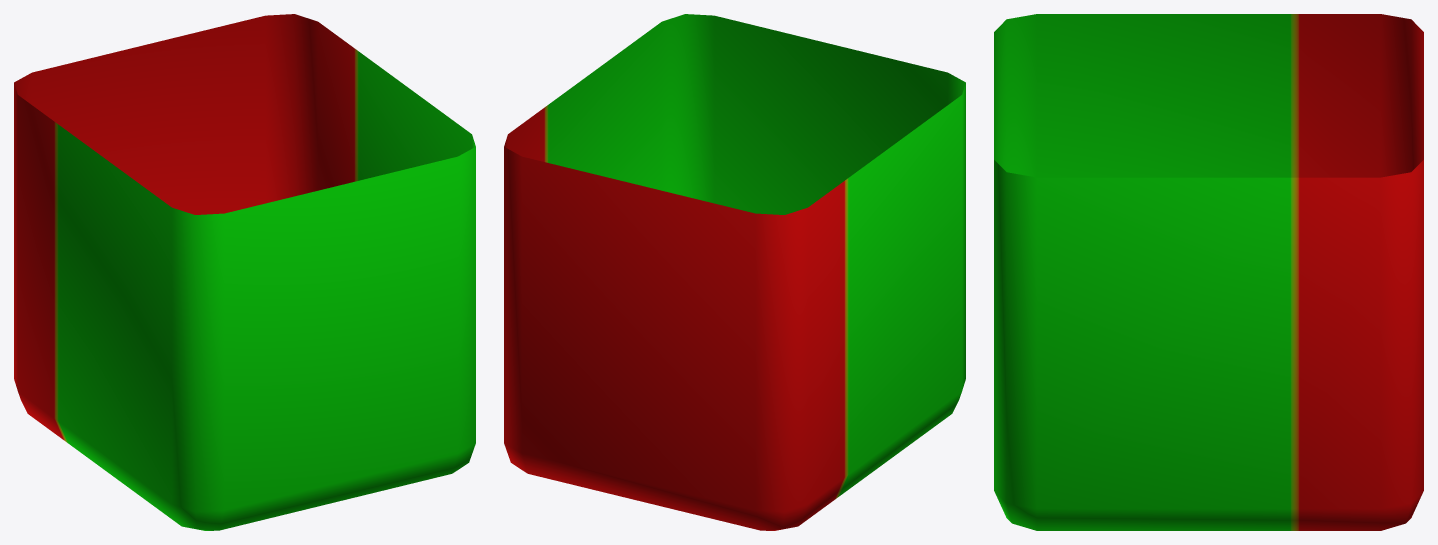
Rendered from Grass-I__I.fbx.
3 renders of one model, left to right at view 1: azimuth 30°, elevation 25°; view 2: azimuth 150°, elevation 25°; view 3: azimuth 270°, elevation 25°, orthographic. The views are drawn at different scales.
Visible parts, largest first — view 1: Grass-I__I; view 2: Grass-I__I; view 3: Grass-I__I.
Part boxes in pixels (left/top/right/bottom): Grass-I__I: left=14, top=14, right=475, bottom=530; Grass-I__I: left=504, top=14, right=965, bottom=530; Grass-I__I: left=994, top=14, right=1423, bottom=530.
Size of the model in its own units: 90 by 100 by 95.
